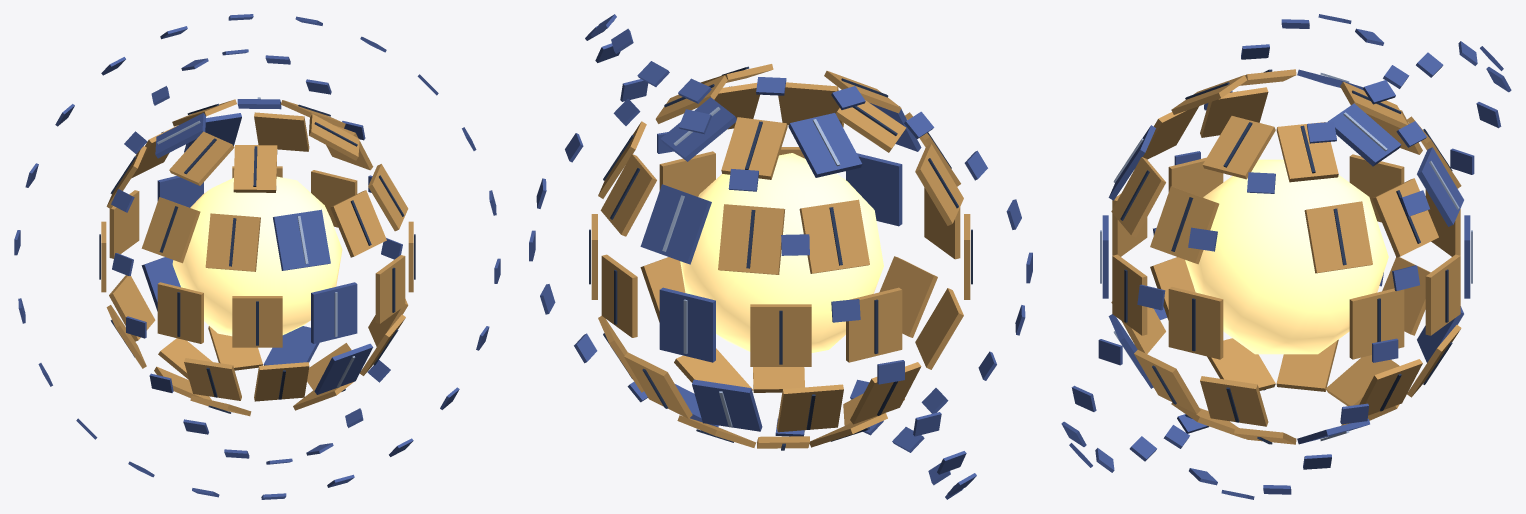
The model's file is dyson_sphere_v2.glb.
3 views of the same model, side by side, from view 1: azimuth 30°, elevation 25°; view 2: azimuth 150°, elevation 25°; view 3: azimuth 270°, elevation 25° (orthographic). The views are drawn at different scales.
Parts seen in each view (by area): view 1: dyson_sphere_v2__orbit-copper, dyson_sphere_v2__orbit-solar-cobalt, dyson_sphere_v2__orbit-window-emissive, dyson_sphere_v2__orbit-server-navy, dyson_sphere_v2__orbit-solar-grid; view 2: dyson_sphere_v2__orbit-copper, dyson_sphere_v2__orbit-solar-cobalt, dyson_sphere_v2__orbit-window-emissive, dyson_sphere_v2__orbit-server-navy, dyson_sphere_v2__orbit-solar-grid; view 3: dyson_sphere_v2__orbit-copper, dyson_sphere_v2__orbit-window-emissive, dyson_sphere_v2__orbit-solar-cobalt, dyson_sphere_v2__orbit-server-navy, dyson_sphere_v2__orbit-solar-grid.
Boxes of the visible parts, left/top/right/bottom form: dyson_sphere_v2__orbit-copper: left=101, top=99, right=413, bottom=416; dyson_sphere_v2__orbit-solar-cobalt: left=14, top=14, right=500, bottom=499; dyson_sphere_v2__orbit-window-emissive: left=172, top=176, right=342, bottom=336; dyson_sphere_v2__orbit-server-navy: left=99, top=103, right=415, bottom=413; dyson_sphere_v2__orbit-solar-grid: left=157, top=97, right=355, bottom=387; dyson_sphere_v2__orbit-copper: left=591, top=64, right=970, bottom=448; dyson_sphere_v2__orbit-solar-cobalt: left=529, top=14, right=1032, bottom=499; dyson_sphere_v2__orbit-window-emissive: left=680, top=153, right=883, bottom=352; dyson_sphere_v2__orbit-server-navy: left=589, top=66, right=972, bottom=450; dyson_sphere_v2__orbit-solar-grid: left=662, top=107, right=840, bottom=427; dyson_sphere_v2__orbit-copper: left=1111, top=69, right=1461, bottom=444; dyson_sphere_v2__orbit-window-emissive: left=1185, top=159, right=1388, bottom=354; dyson_sphere_v2__orbit-solar-cobalt: left=1061, top=14, right=1511, bottom=499; dyson_sphere_v2__orbit-server-navy: left=1120, top=69, right=1452, bottom=444; dyson_sphere_v2__orbit-solar-grid: left=1100, top=73, right=1472, bottom=440.
Bounding box in the file's own units: 40.57 × 39.65 × 36.17.
